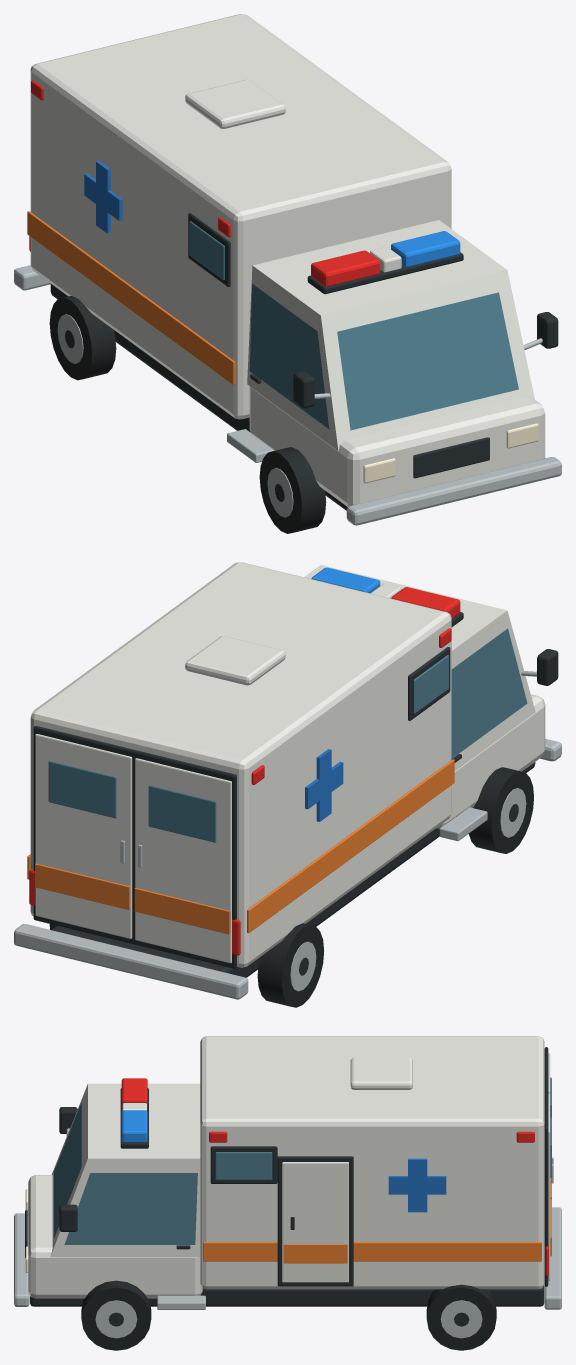
Rendered from vehicle_ambulance.glb.
3 views of the same model, one above another, from view 1: azimuth 30°, elevation 25°; view 2: azimuth 150°, elevation 25°; view 3: azimuth 270°, elevation 25° (orthographic). The views are drawn at different scales.
Visible parts, largest first — view 1: White medical box body, Ambulance cab shell, Ambulance cab front windshield, Ambulance cab lower body, Ambulance cab side window 1, Orange medical body stripe, Front metal bumper, Left front wheel tire, Left rear wheel tire, Medical box roof vent, Front dark grille, Ambulance underbody (+11 smaller); view 2: White medical box body, Rear medical compartment door.001, Rear medical compartment door, Ambulance cab side window 1, Rear step bumper, Orange medical body stripe, Rear door surround, Ambulance cab shell, Ambulance cab lower body, Left rear wheel tire, Medical box roof vent, Left front wheel tire (+14 smaller); view 3: White medical box body, Ambulance cab shell, Ambulance cab side window 1.001, Ambulance cab lower body, Side entry door, Ambulance underbody, Orange medical body stripe.001, Right front wheel tire, Right rear wheel tire, Medical box roof vent, Side entry door frame, Generic blue medical plus.001 (+15 smaller).
Part boxes in pixels (box(x1,y1,x2,y2)): White medical box body: box(30, 14, 451, 419); Ambulance cab shell: box(247, 220, 534, 450); Ambulance cab front windshield: box(337, 292, 518, 430); Ambulance cab lower body: box(249, 386, 545, 506); Ambulance cab side window 1: box(249, 283, 329, 428); Orange medical body stripe: box(27, 211, 235, 384); Front metal bumper: box(346, 457, 561, 525); Left front wheel tire: box(259, 447, 326, 533); Left rear wheel tire: box(49, 296, 116, 380); Medical box roof vent: box(185, 79, 285, 128); Front dark grille: box(413, 437, 489, 478); Ambulance underbody: box(50, 284, 347, 510); White medical box body: box(30, 562, 451, 967); Rear medical compartment door.001: box(35, 734, 132, 938); Rear medical compartment door: box(135, 758, 231, 963); Ambulance cab side window 1: box(451, 628, 527, 758); Rear step bumper: box(14, 924, 248, 999); Orange medical body stripe: box(247, 759, 454, 933); Rear door surround: box(33, 726, 236, 968); Ambulance cab shell: box(304, 565, 535, 771); Ambulance cab lower body: box(436, 694, 545, 828); Left rear wheel tire: box(257, 923, 324, 1007); Medical box roof vent: box(185, 636, 285, 685); Left front wheel tire: box(469, 767, 533, 853); White medical box body: box(200, 1036, 544, 1289); Ambulance cab shell: box(50, 1083, 200, 1257); Ambulance cab side window 1.001: box(64, 1173, 197, 1244); Ambulance cab lower body: box(28, 1175, 202, 1298); Side entry door: box(282, 1162, 348, 1282); Ambulance underbody: box(30, 1285, 544, 1306); Orange medical body stripe.001: box(203, 1242, 541, 1261); Right front wheel tire: box(81, 1280, 151, 1350); Right rear wheel tire: box(426, 1284, 496, 1350); Medical box roof vent: box(350, 1057, 412, 1089); Side entry door frame: box(277, 1156, 353, 1286); Generic blue medical plus.001: box(388, 1158, 446, 1212).
Size of the model in its own units: 2.65 by 2.82 by 5.97.
